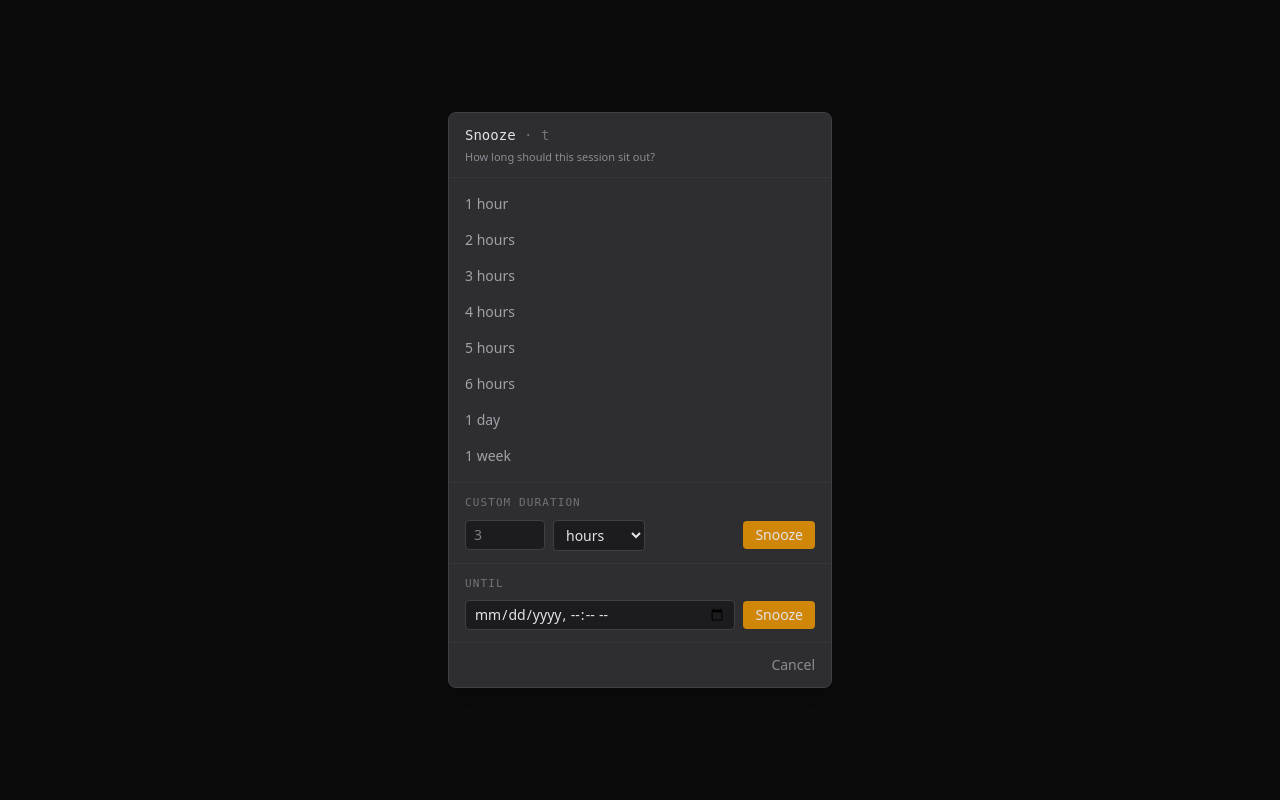
Test: SnoozeModal › custom 5 w picks null
Type "5" into the number field with test id "snooze-modal-custom-value". click: coordinates (505, 535)
box: [465, 520, 545, 550]
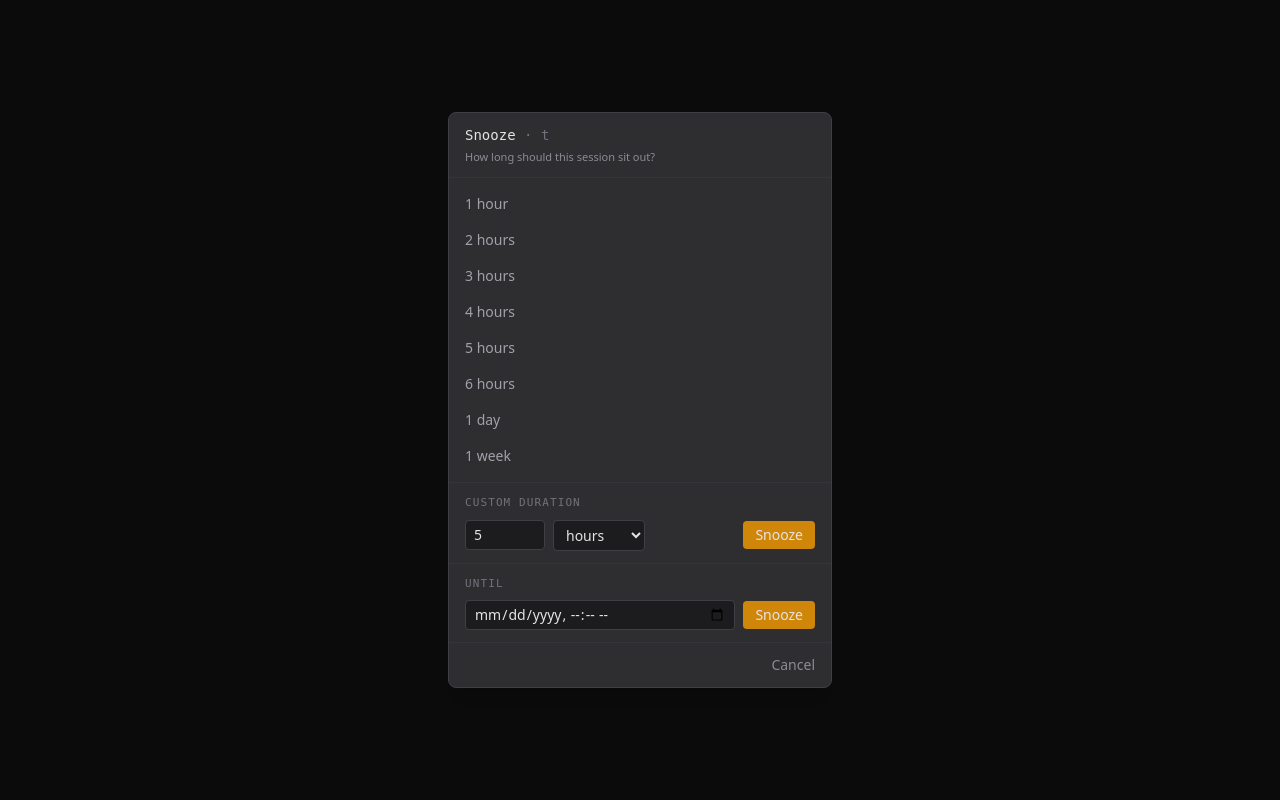
Select "weeks" in the dropdown with test id "snooze-modal-custom-unit". click: coordinates (599, 535)
box: [553, 520, 645, 551]
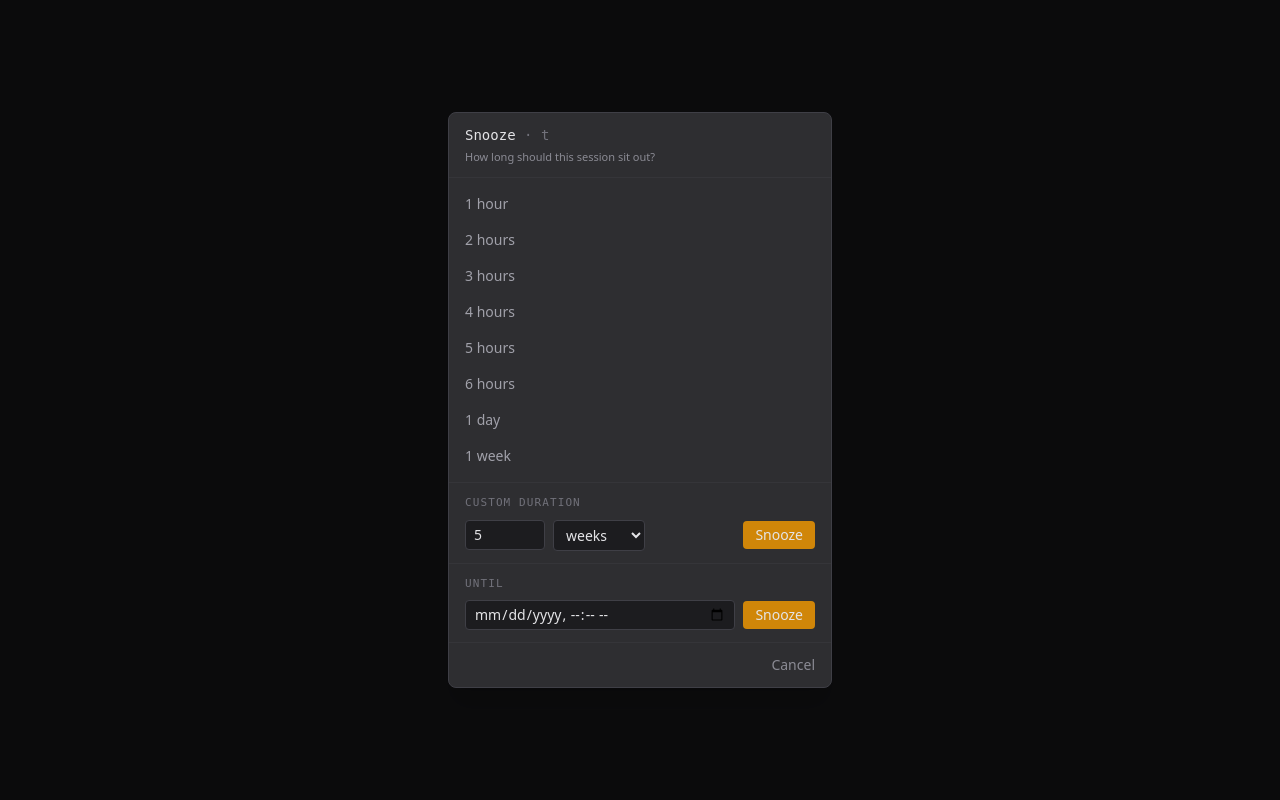
Click the button with test id "snooze-modal-custom-submit". click: coordinates (779, 535)
box: [743, 521, 815, 549]
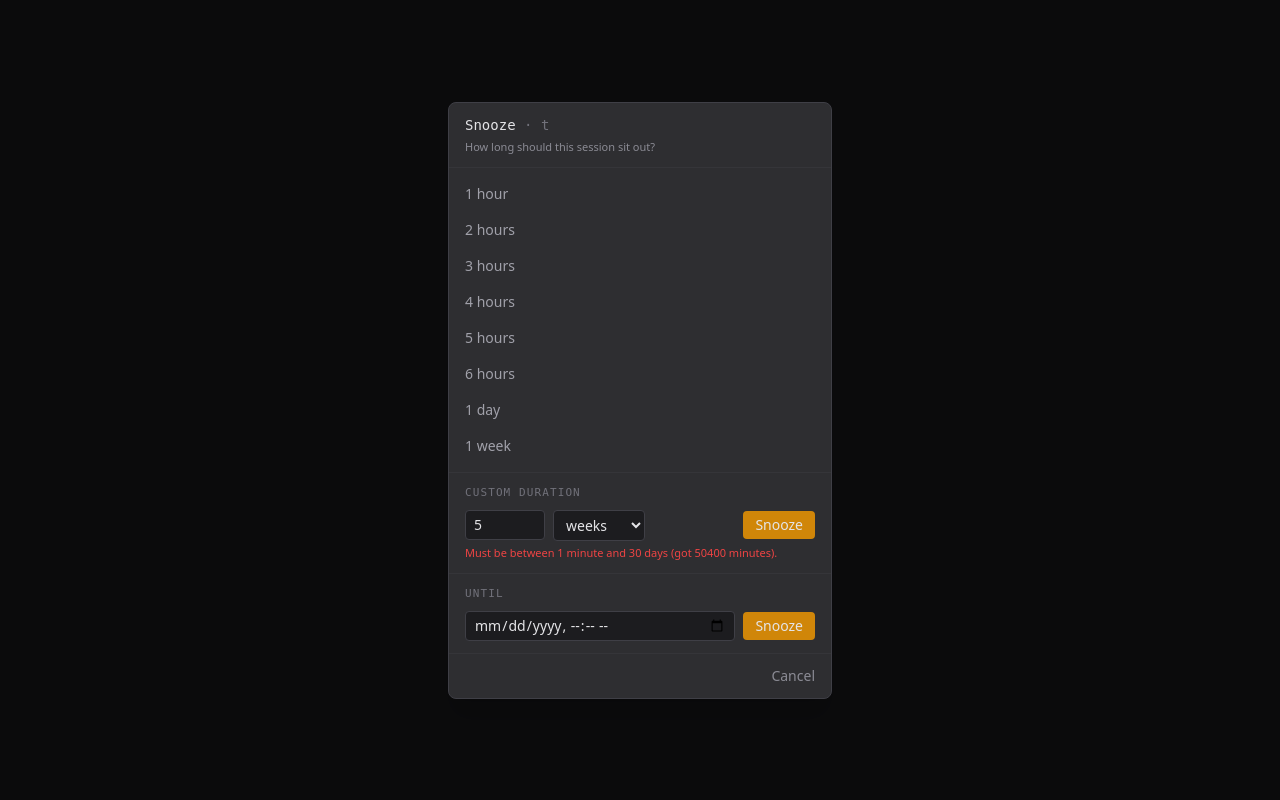
Expected: the message "Must be between 1 minute and 30 days (got 50400 minutes)." is shown, [465, 544, 815, 561]
